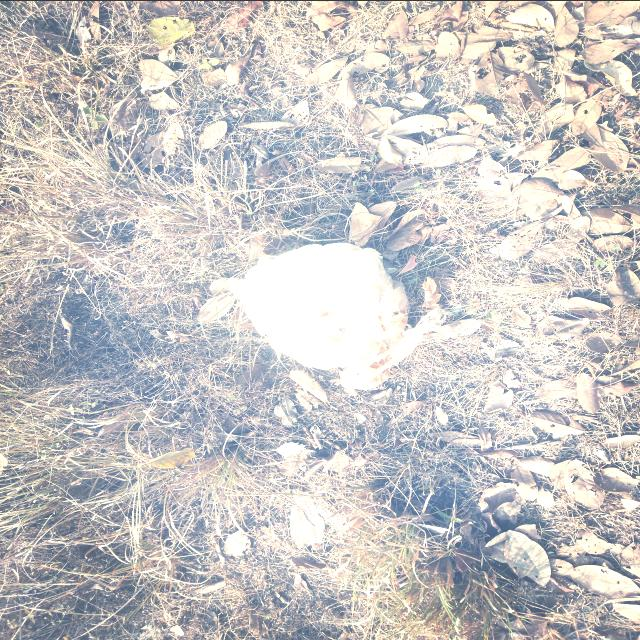Plastic film: (229, 241, 452, 389)
